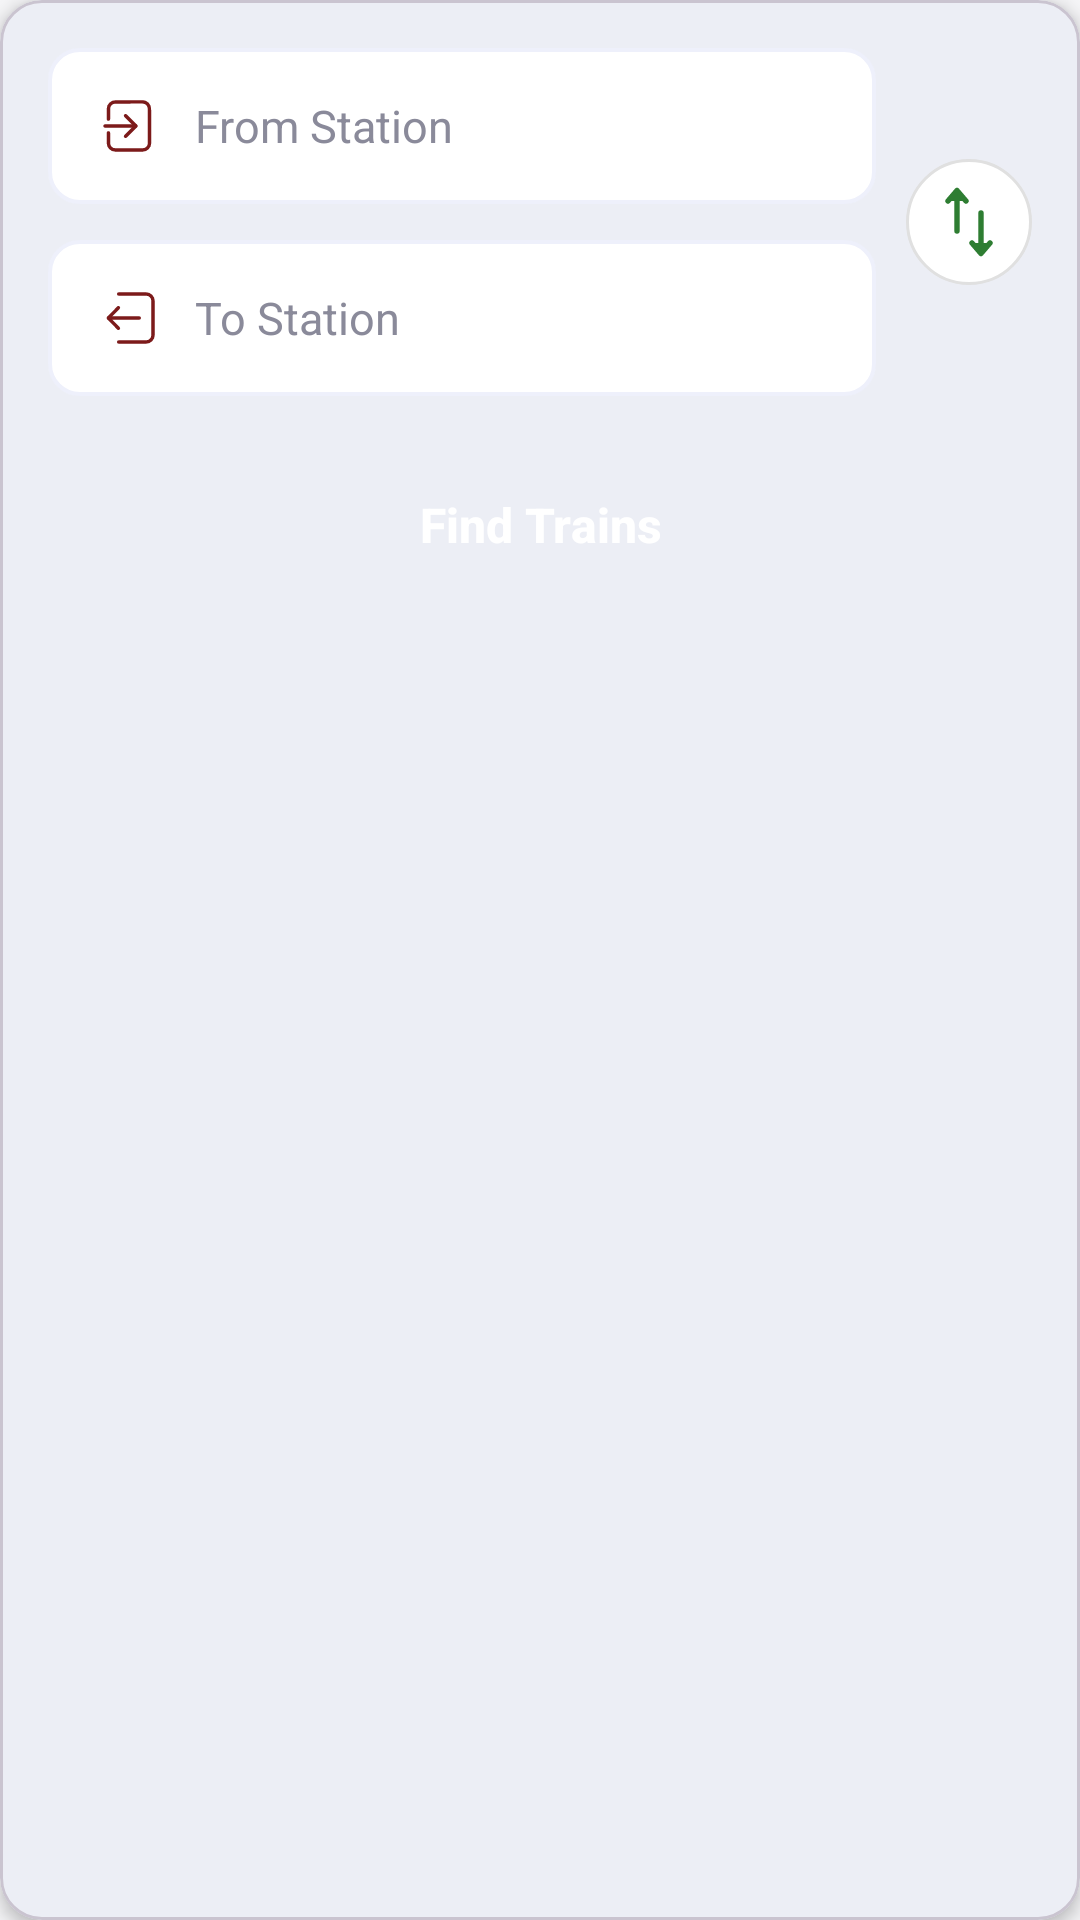

Named icons in this screenshot (1080px×1920px) and their bounding boxes, bbox=(x1, y1, x2, y2):
Swap stations: bbox=(906, 159, 1032, 285)
